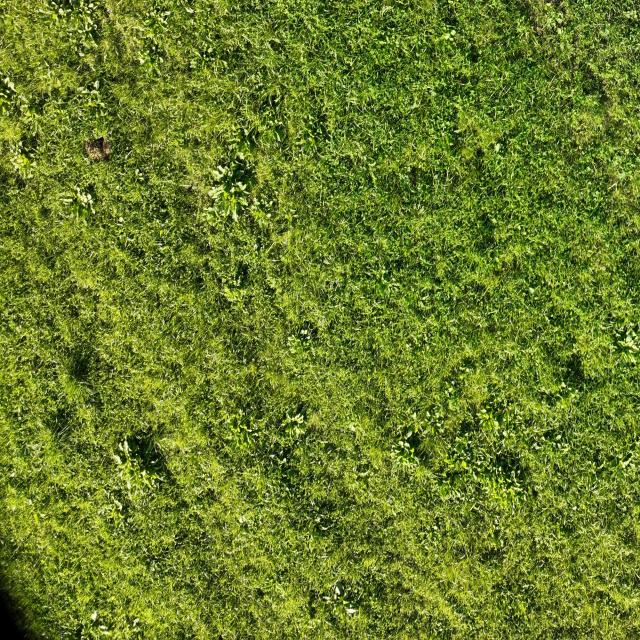rumex: (302, 529, 385, 636), (378, 2, 464, 84), (237, 70, 297, 158), (460, 442, 521, 516), (350, 247, 404, 324), (114, 436, 162, 501), (187, 22, 230, 81), (389, 417, 425, 476), (296, 96, 333, 153), (76, 80, 110, 140), (33, 68, 67, 118), (474, 404, 511, 447), (67, 346, 102, 389), (0, 72, 29, 121), (290, 324, 318, 365), (101, 491, 129, 528), (228, 154, 254, 190), (616, 324, 640, 360), (24, 103, 45, 140), (283, 412, 307, 444), (213, 191, 240, 219), (240, 124, 262, 154), (432, 23, 456, 50), (222, 283, 246, 305), (140, 57, 162, 80), (49, 4, 68, 30), (234, 422, 251, 450), (78, 84, 104, 102), (266, 236, 285, 257), (141, 435, 155, 458), (621, 453, 638, 471), (209, 185, 228, 200), (15, 153, 31, 170), (478, 410, 495, 425), (205, 210, 220, 227), (368, 165, 379, 188), (211, 166, 227, 181), (84, 196, 95, 217), (72, 201, 83, 221), (80, 204, 90, 225), (344, 421, 358, 435), (268, 39, 282, 53), (275, 222, 290, 235), (124, 438, 134, 455), (78, 192, 90, 206), (118, 234, 128, 250), (254, 208, 266, 221), (554, 10, 564, 25), (398, 439, 410, 451), (134, 168, 143, 184), (236, 148, 247, 161), (112, 452, 122, 466), (118, 440, 127, 454), (380, 5, 390, 17), (43, 84, 53, 96), (251, 199, 261, 210), (238, 514, 248, 525), (458, 458, 468, 469), (160, 11, 170, 22), (625, 10, 636, 20), (115, 499, 124, 511), (411, 98, 420, 110), (126, 477, 133, 492), (602, 25, 610, 38), (201, 59, 209, 72), (84, 18, 92, 31), (154, 244, 167, 252), (149, 458, 159, 468), (556, 23, 565, 34), (347, 97, 358, 106), (7, 81, 16, 92), (26, 443, 40, 450), (4, 76, 12, 88), (451, 127, 464, 134), (479, 408, 489, 417), (616, 172, 626, 181), (138, 56, 147, 66), (300, 328, 309, 337), (447, 385, 455, 395), (405, 430, 413, 440), (189, 60, 197, 70), (322, 594, 332, 602), (25, 498, 33, 507), (430, 424, 436, 436), (132, 617, 140, 626), (186, 6, 195, 14), (38, 8, 48, 15), (494, 142, 500, 153), (264, 212, 272, 220), (412, 411, 419, 420), (157, 56, 164, 65), (99, 624, 108, 631), (61, 198, 73, 203), (528, 286, 535, 294), (555, 434, 562, 442), (118, 215, 125, 223), (93, 80, 99, 89), (450, 29, 456, 37), (78, 50, 84, 58), (560, 381, 566, 388), (52, 13, 58, 20), (243, 356, 247, 364)
